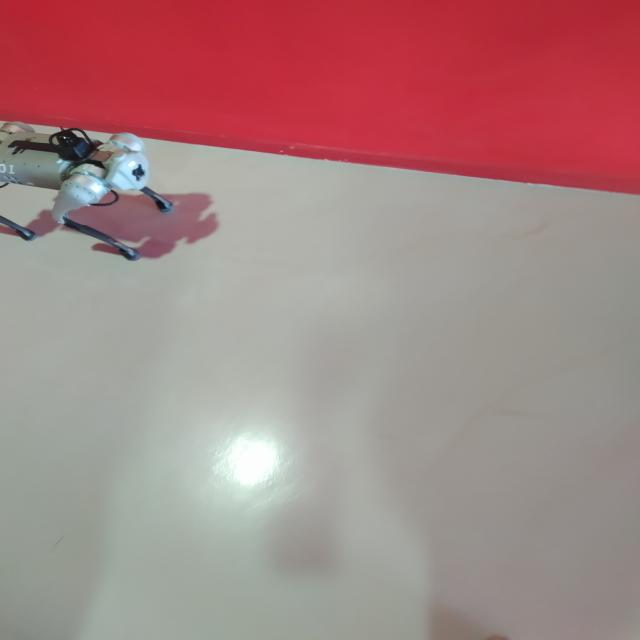unitree-go1-robot: (0, 114, 169, 255)
